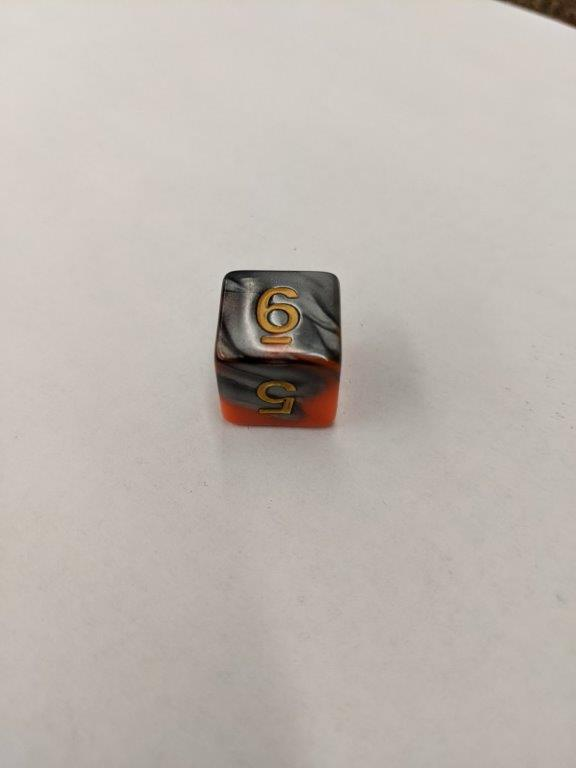d6-6: (211, 267, 347, 430)
